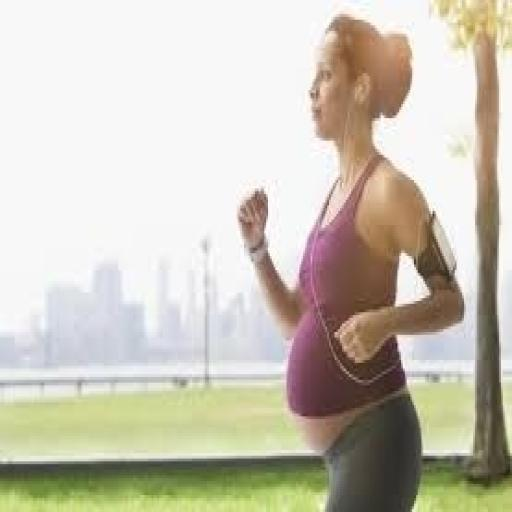running: (234, 11, 468, 509)
